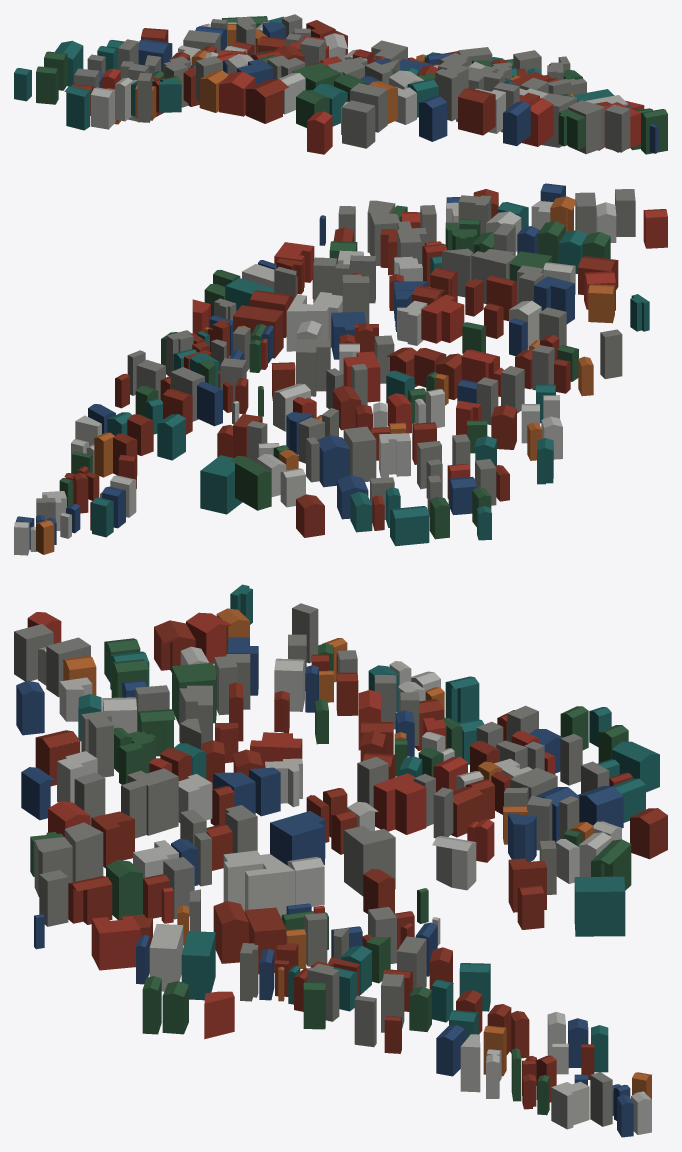
File: near-17-109436-59474.f670c9e2.glb
The picture shows the model from 3 angles, top to bottom: view 1: azimuth 30°, elevation 25°; view 2: azimuth 150°, elevation 25°; view 3: azimuth 270°, elevation 25°; orthographic projection. The views are drawn at different scales.
Bounding box in the file's own units: 303 × 155 × 307.
